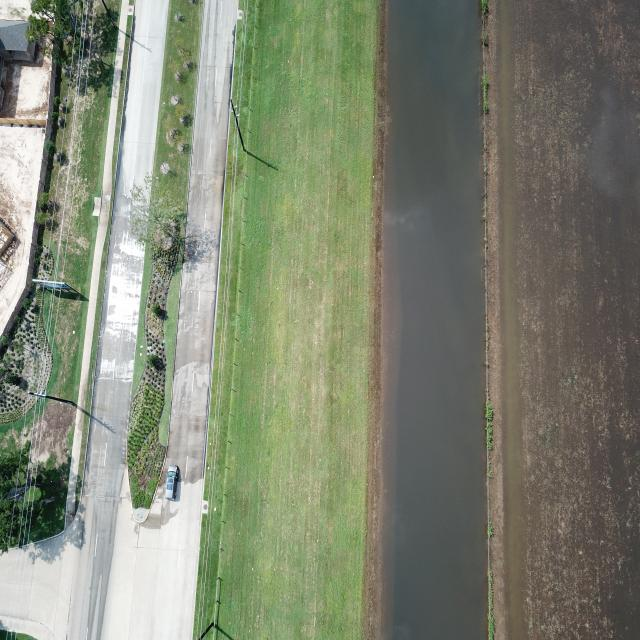fire: (383, 0, 488, 639)
